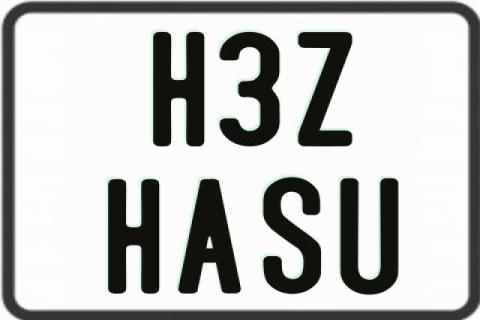0: (220, 30, 282, 146)
A: (178, 179, 246, 293)
H: (107, 179, 162, 296), (152, 30, 206, 148)
S: (260, 175, 320, 295)
U: (338, 177, 402, 295)
Z: (297, 30, 357, 146)
